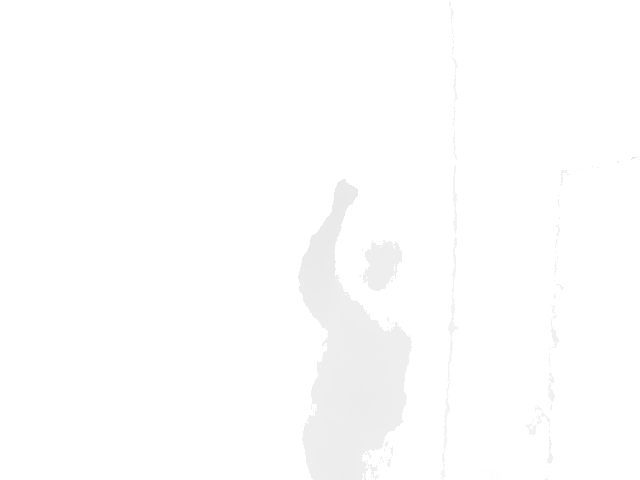hand: (330, 178, 358, 214)
head: (360, 239, 404, 292)
person: (297, 178, 414, 480)
